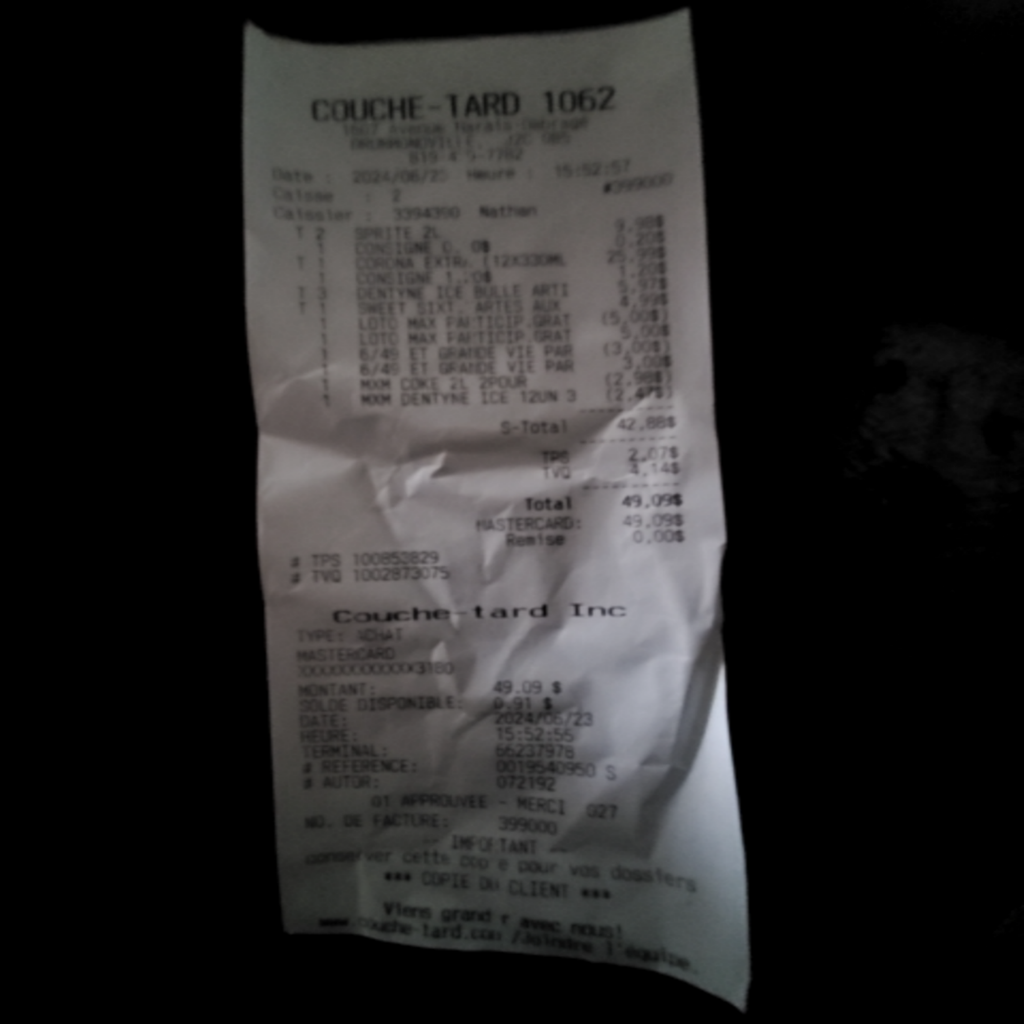recipt: (243, 2, 749, 1007)
